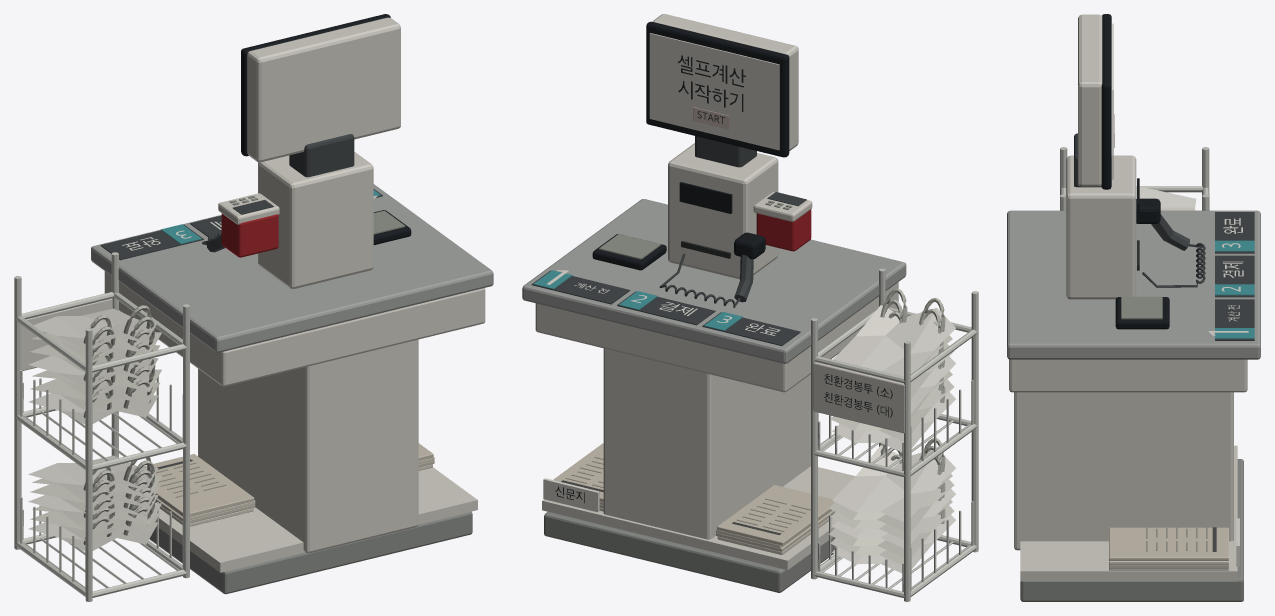
The model's file is counter.glb.
3 views of the same model, side by side, from view 1: azimuth 30°, elevation 25°; view 2: azimuth 150°, elevation 25°; view 3: azimuth 270°, elevation 25° (orthographic). The views are drawn at different scales.
Parts seen in each view (by area): view 1: DaisoPackingCheckout; view 2: DaisoPackingCheckout; view 3: DaisoPackingCheckout.
Boxes of the visible parts, x1,y1,x2,y2 form: DaisoPackingCheckout: [14, 14, 493, 601]; DaisoPackingCheckout: [522, 14, 978, 601]; DaisoPackingCheckout: [1007, 14, 1260, 601].
Size of the model in its own units: 1.31 by 1.65 by 0.76.
